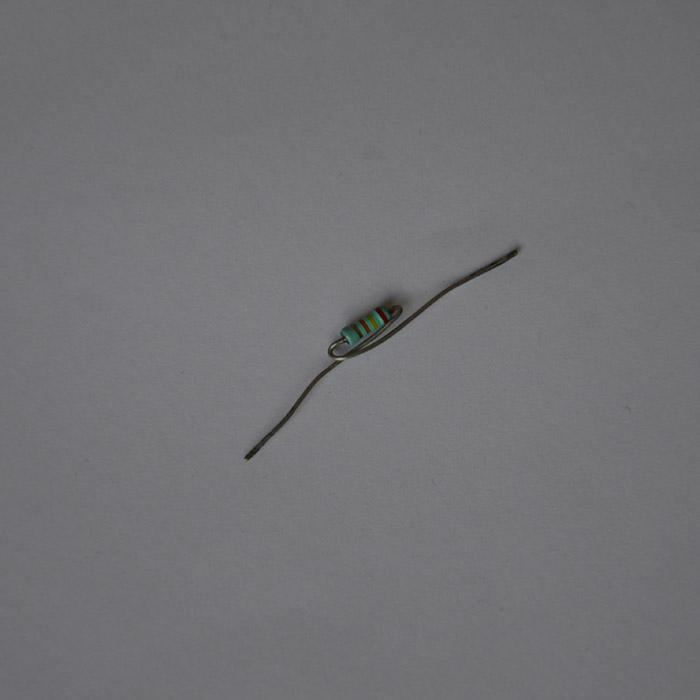resistor: (338, 305, 393, 347)
